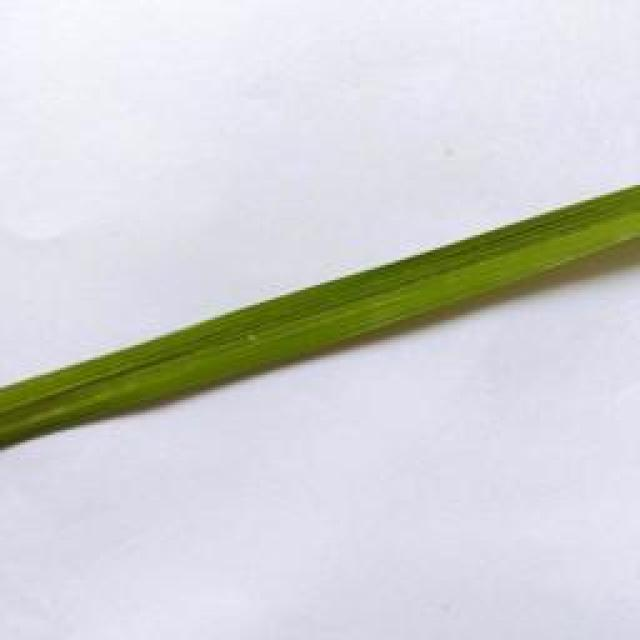Healthy-Plant: (0, 181, 640, 451)
